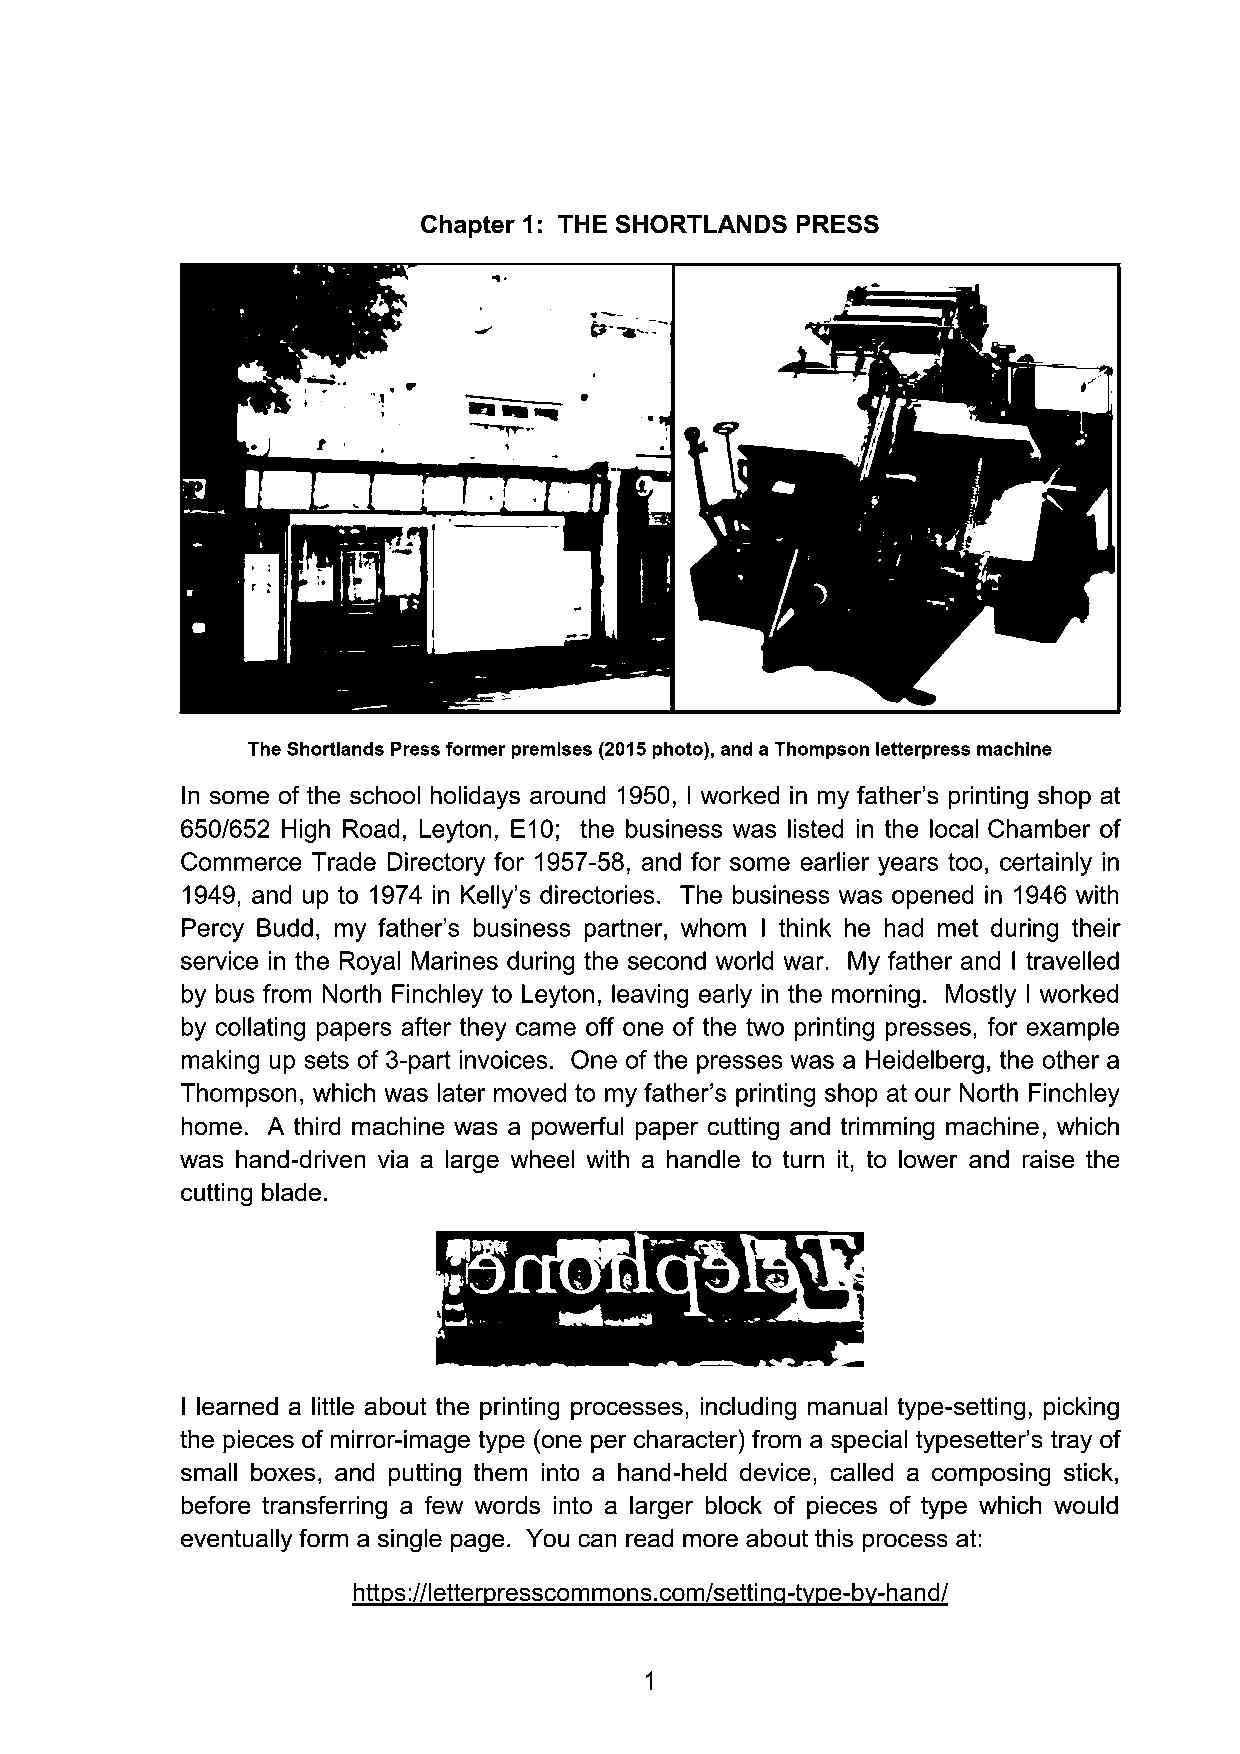chapter: (416, 207, 880, 238)
content: (172, 255, 1127, 1609)
content_pagenumber: (636, 1665, 662, 1696)
